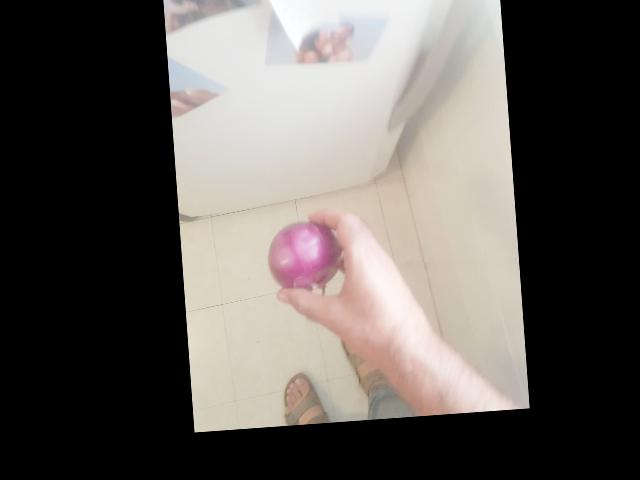onion: (268, 218, 341, 295)
